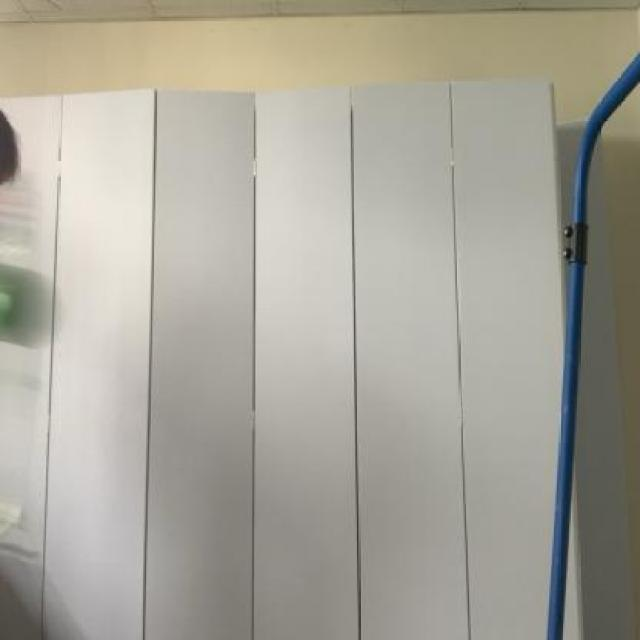baseball: (0, 255, 69, 356)
